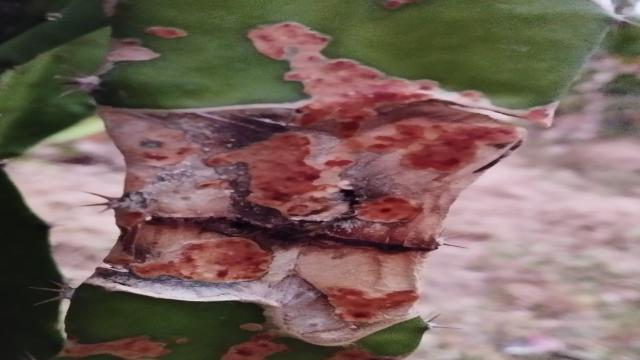stemcanker: (94, 10, 197, 89)
